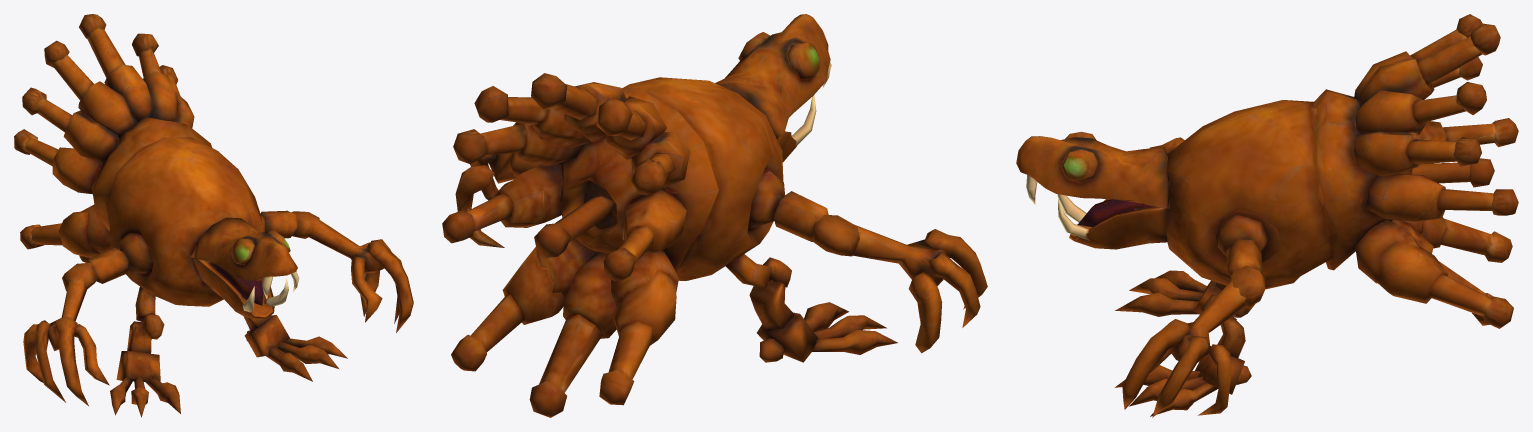
The model's file is banquet-turkey.glb.
The picture shows the model from 3 angles, left to right: view 1: azimuth 30°, elevation 25°; view 2: azimuth 150°, elevation 25°; view 3: azimuth 270°, elevation 25°; orthographic projection. The views are drawn at different scales.
Bounding box in the file's own units: 1 × 0.7173 × 1.
Materials: 1 (1 with a texture image).
